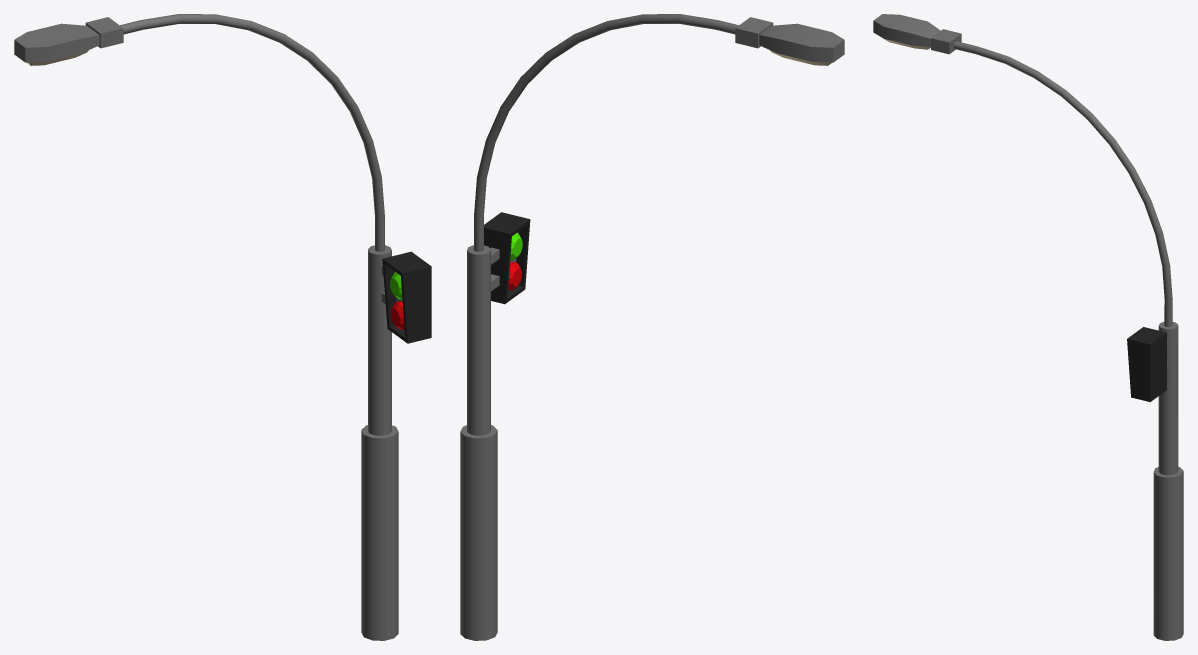
Rendered from Lamppost2.fbx.
The picture shows the model from 3 angles, left to right: view 1: azimuth 30°, elevation 25°; view 2: azimuth 150°, elevation 25°; view 3: azimuth 330°, elevation 25°; orthographic projection. The views are drawn at different scales.
Visible parts, largest first — view 1: Lamppost1.065; view 2: Lamppost1.065; view 3: Lamppost1.065.
Boxes of the visible parts, x1=… form: Lamppost1.065: x1=14, y1=14, x2=431, y2=640; Lamppost1.065: x1=460, y1=14, x2=844, y2=640; Lamppost1.065: x1=873, y1=14, x2=1183, y2=640.
Size of the model in its own units: 348 by 599 by 75.74.
